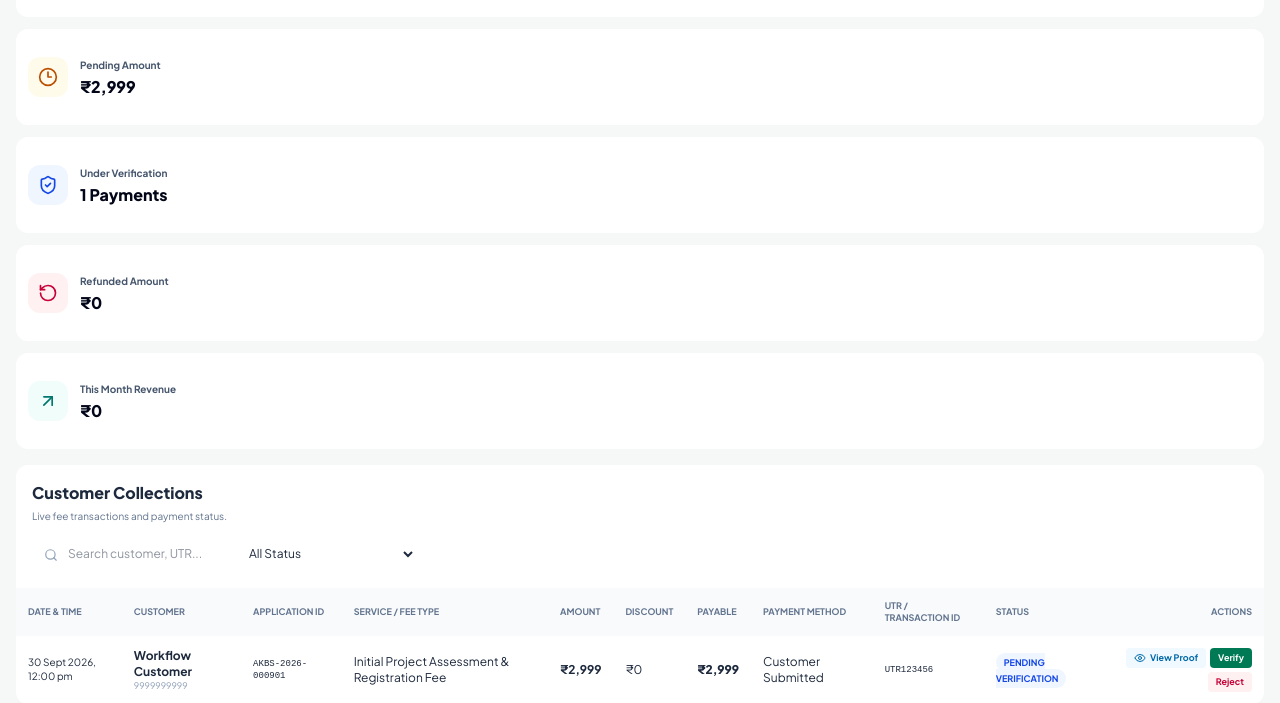
Test: receipt email failure remains visible after verification refresh
(page scrolled)
Click the button "Verify".
click(1231, 658)  # box [1210,648,1252,668]
(page scrolled)
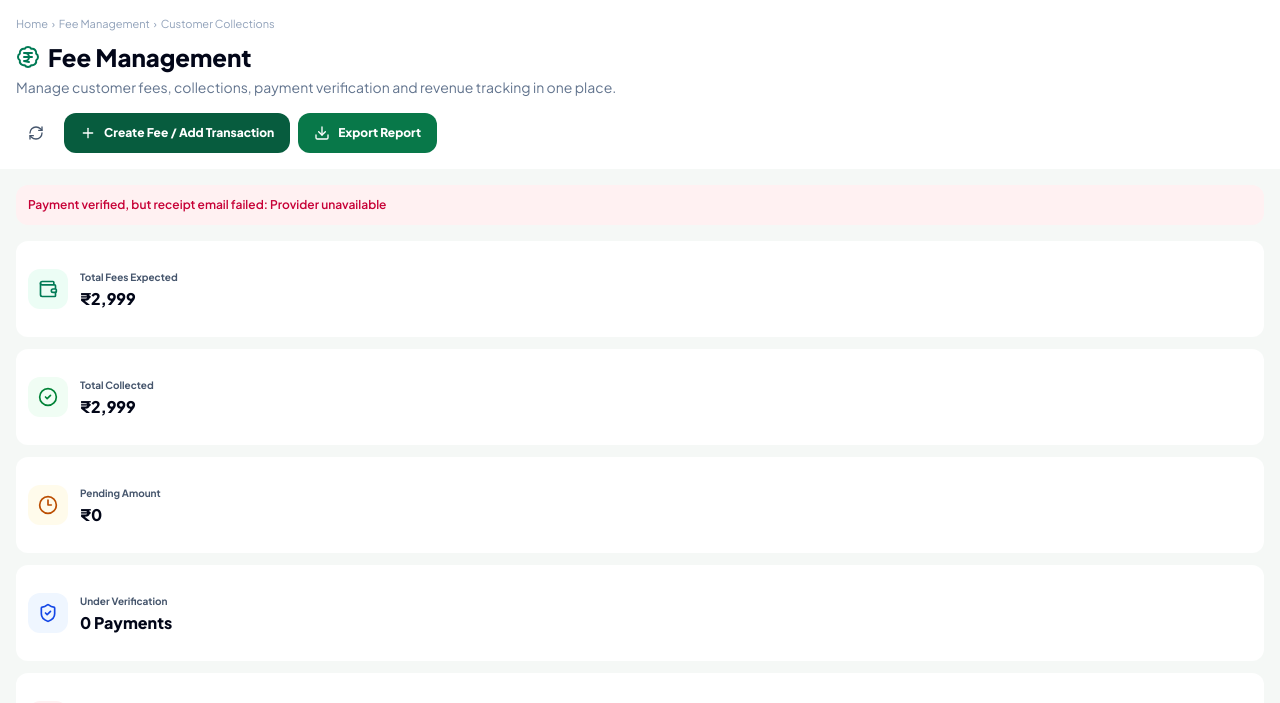
Expected: the text "Payment verified, but receipt email failed: Provider unavailable" is shown, [16,184,1264,224]
